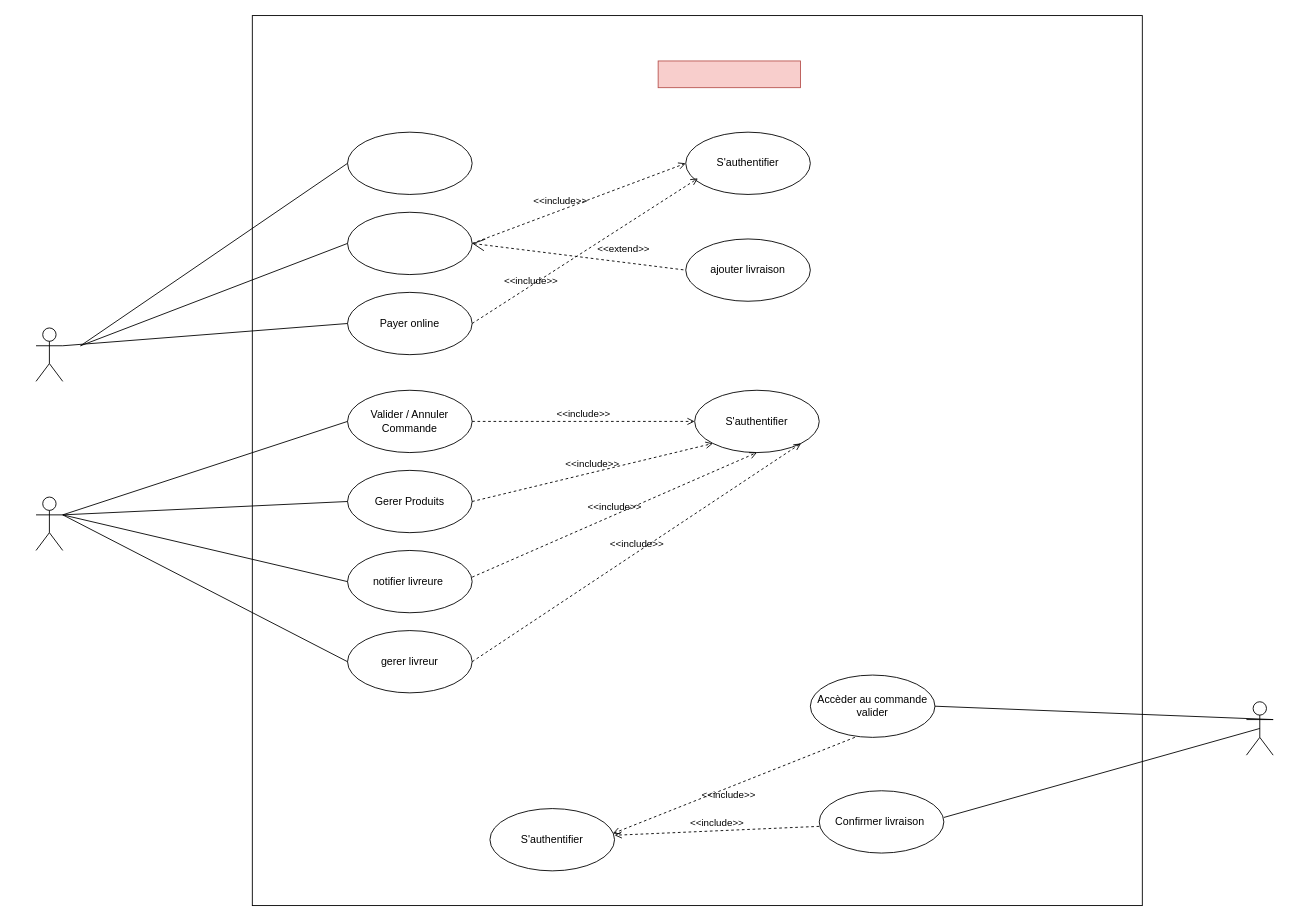
The diagram is 1290 pixels wide and 921 high, and some of its shapes have lost their labels. Here are the shapes that lost their labels. From the top down, the centre of each, then its label:
At pixel 729 74: "Application WEB".
At pixel 409 162: "Creer Compte".
At pixel 409 243: "Gérer commande".
At pixel 49 354: "utilisateur".
At pixel 49 523: "administrateur".
At pixel 1259 728: "livreur".
